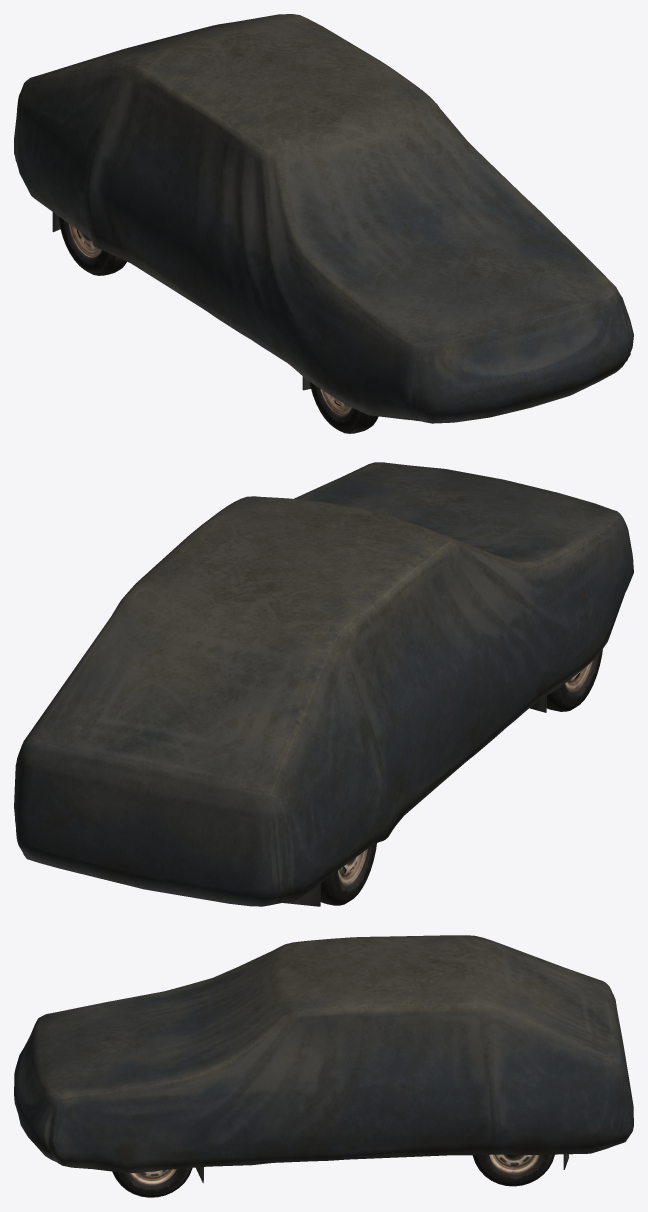
File: SM_PH_covered_car.fbx
3 views of the same model, one above another, from view 1: azimuth 30°, elevation 25°; view 2: azimuth 150°, elevation 25°; view 3: azimuth 270°, elevation 25° (orthographic). The views are drawn at different scales.
Visible parts, largest first — view 1: SM_PH_covered_car; view 2: SM_PH_covered_car; view 3: SM_PH_covered_car.
Boxes of the visible parts, <box> form: SM_PH_covered_car: <box>14,14,633,433</box>; SM_PH_covered_car: <box>14,462,633,906</box>; SM_PH_covered_car: <box>14,935,633,1197</box>.
Bounding box in the file's own units: 1.92 × 4.41 × 1.41.
Materials: 2 (2 with a texture image).
